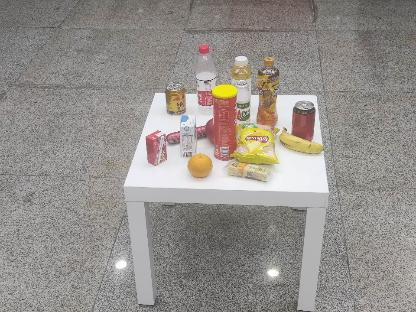Can: (292, 102, 316, 140), (166, 83, 188, 113)
Others: (211, 84, 239, 160), (143, 128, 169, 166), (178, 114, 200, 158)
Plastic Bottle: (192, 44, 219, 112), (255, 55, 281, 115)
Plastic Packaging: (231, 122, 282, 161)
